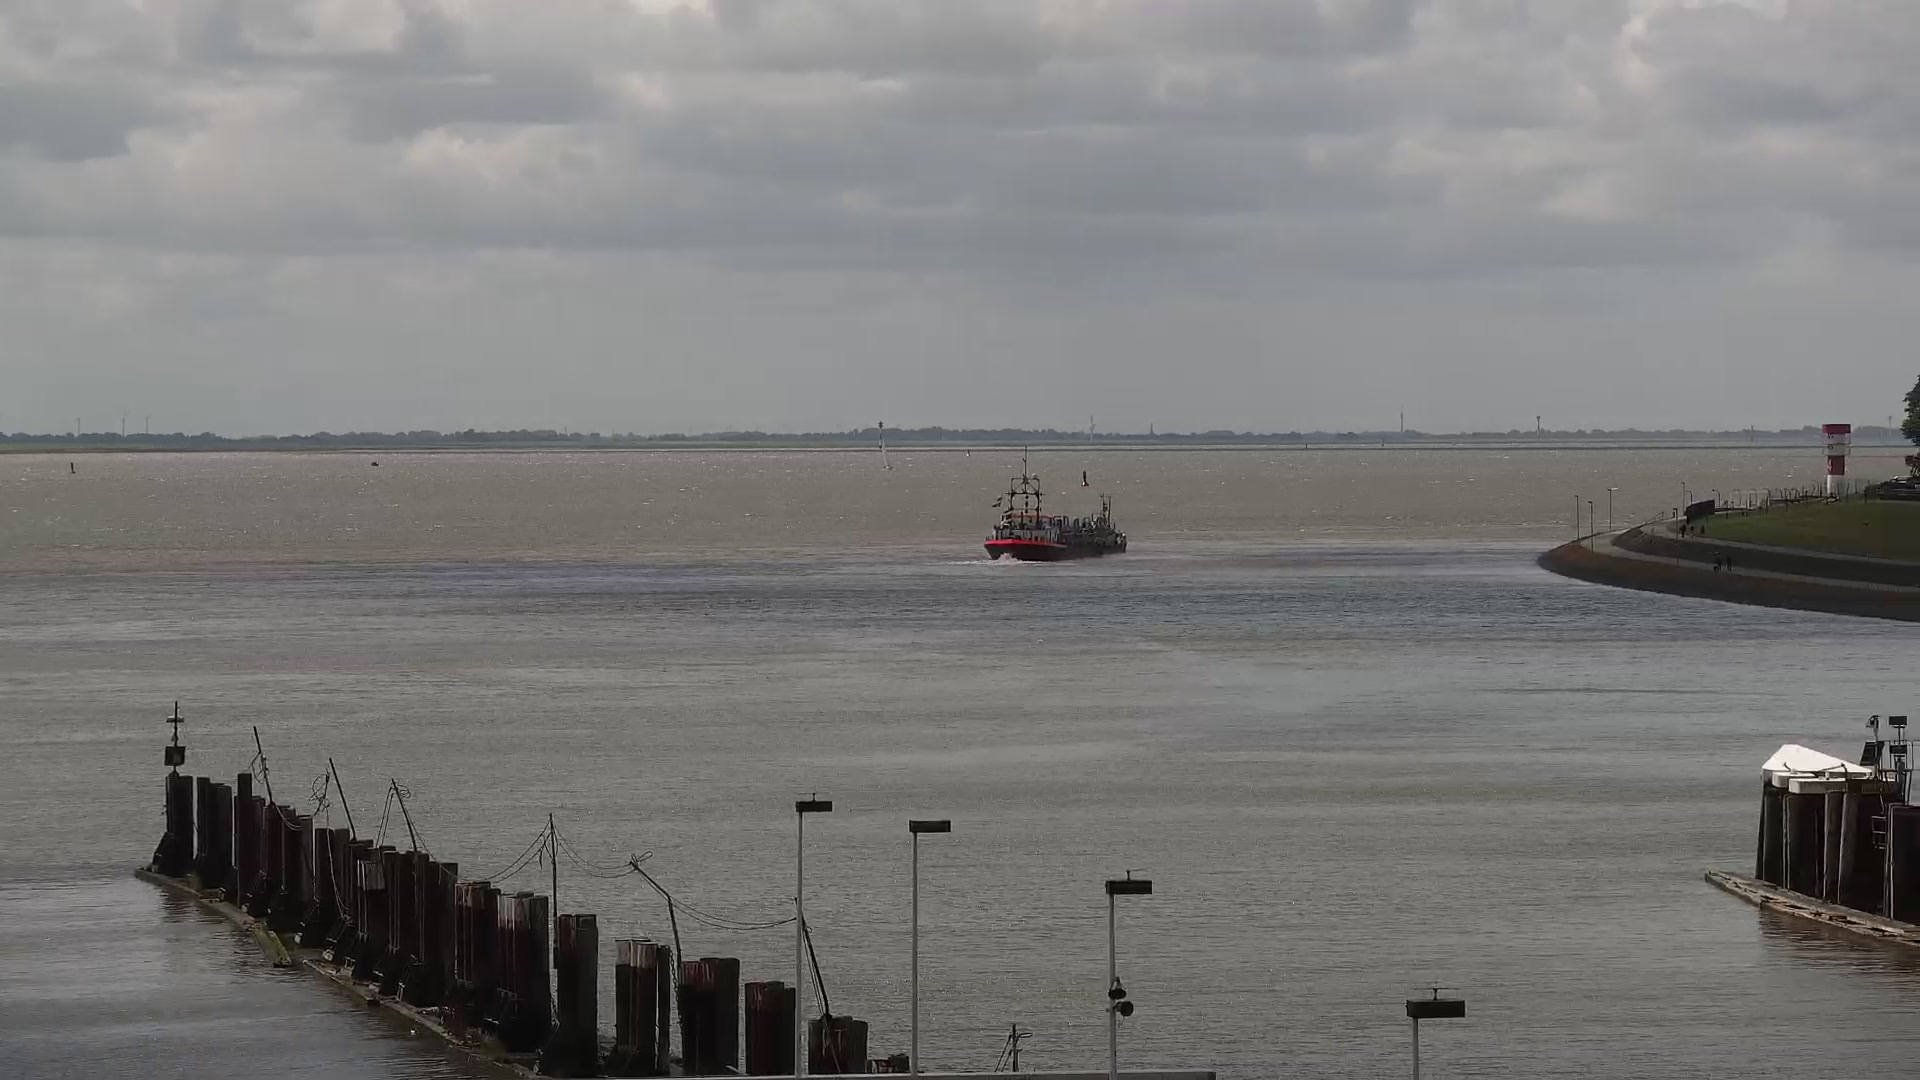human: (1715, 556, 1723, 573), (1679, 523, 1686, 539), (1725, 555, 1731, 571), (1699, 524, 1705, 538), (1689, 523, 1695, 539), (1713, 564, 1718, 573)
sea: (983, 443, 1128, 562), (879, 438, 891, 469), (370, 459, 378, 467)
